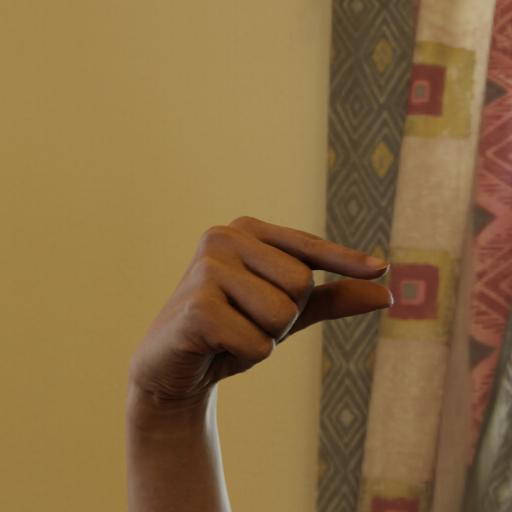G: (120, 212, 401, 423)
